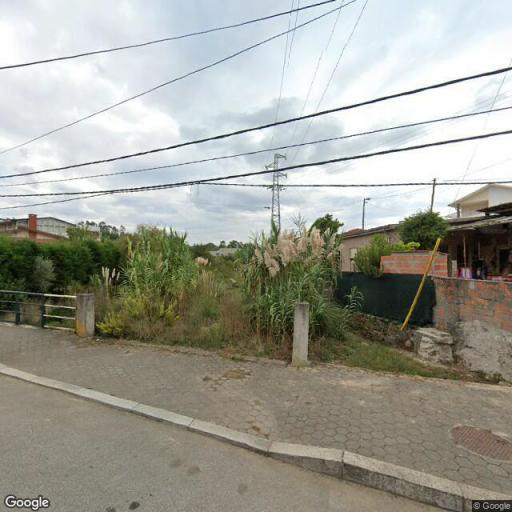ss_4: (264, 148, 289, 242)
